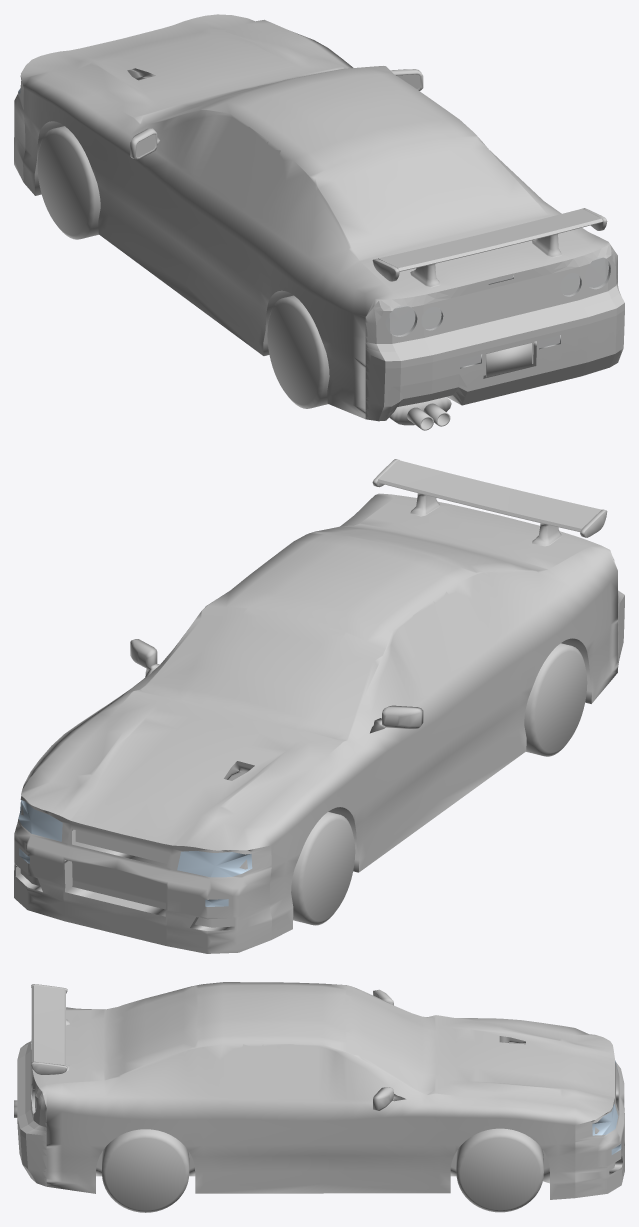
Rendered from gtr_99.obj.
The picture shows the model from 3 angles, top to bottom: view 1: azimuth 30°, elevation 25°; view 2: azimuth 150°, elevation 25°; view 3: azimuth 270°, elevation 25°; orthographic projection. The views are drawn at different scales.
Parts seen in each view (by area): view 1: Body, Wheel_FL, Wheel_RL; view 2: Body, Wheel_FL, Wheel_RL, Headlight_Lenses; view 3: Body, Wheel_FR, Wheel_RR, Headlight_Lenses.
Boxes of the visible parts, left/top/right/bottom form: Body: left=14, top=14, right=624, bottom=430; Wheel_FL: left=37, top=126, right=100, bottom=239; Wheel_RL: left=267, top=295, right=329, bottom=408; Body: left=14, top=459, right=624, bottom=953; Wheel_FL: left=291, top=812, right=355, bottom=925; Wheel_RL: left=524, top=643, right=587, bottom=756; Headlight_Lenses: left=18, top=800, right=252, bottom=906; Body: left=14, top=982, right=624, bottom=1199; Wheel_FR: left=456, top=1128, right=543, bottom=1212; Wheel_RR: left=102, top=1129, right=189, bottom=1212; Headlight_Lenses: left=592, top=1060, right=621, bottom=1154.
Size of the model in its own units: 1.94 by 1.32 by 4.6.
